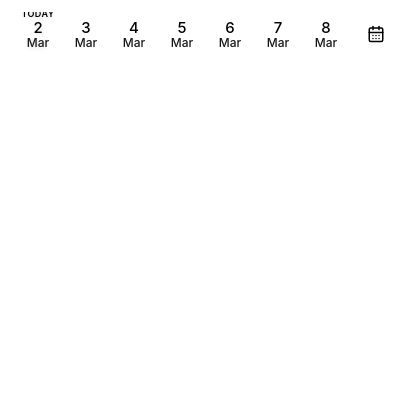
Test: Calendar dropdown › shows current month with navigation arrows
Click the button named "open calendar": point(376, 34) [356,18,396,52]
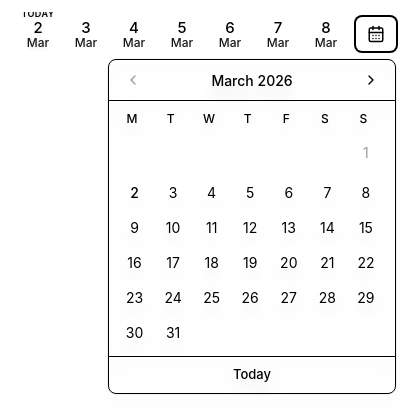
Check: the button named "previous month" is disabled, box [121,68,145,92]
Check: the button named "next month" is enabled, box [359,68,383,92]
